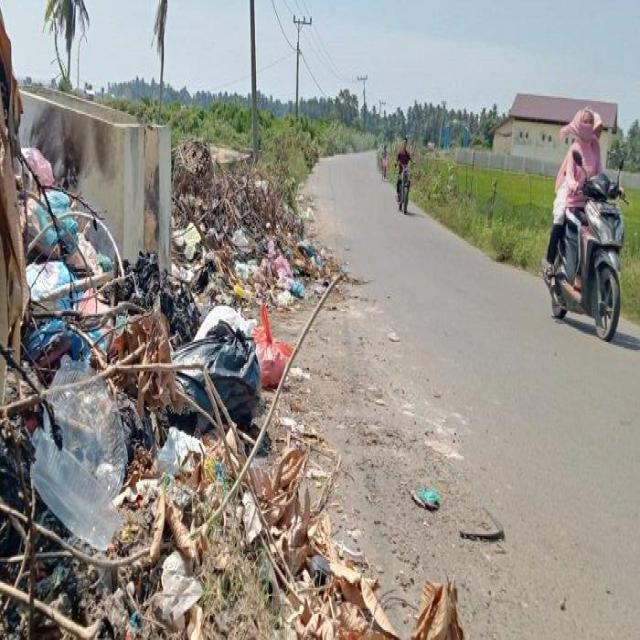trash: (0, 18, 337, 640)
